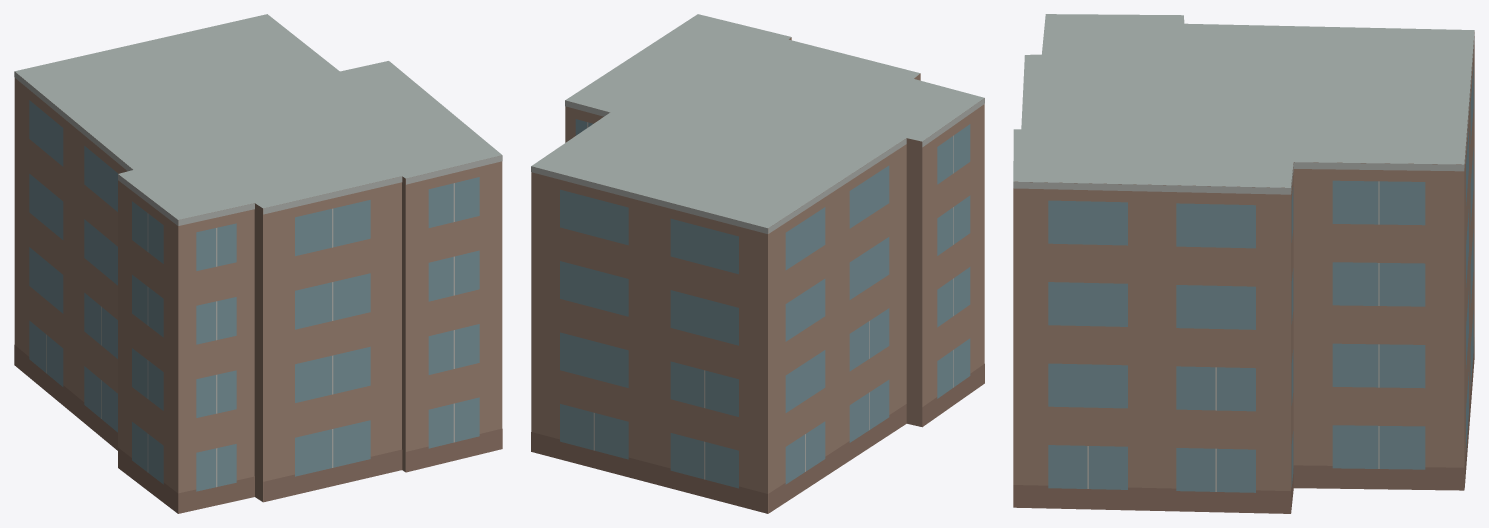
File: survey-upis-32654377.glb
3 renders of one model, left to right at view 1: azimuth 30°, elevation 25°; view 2: azimuth 150°, elevation 25°; view 3: azimuth 270°, elevation 25°, orthographic. The views are drawn at different scales.
Parts seen in each view (by area): view 1: survey-upis-32654377.tmp; view 2: survey-upis-32654377.tmp; view 3: survey-upis-32654377.tmp.
Part boxes in pixels (box(x1,y1,x2,y2)): survey-upis-32654377.tmp: box(14, 14, 502, 513); survey-upis-32654377.tmp: box(531, 14, 984, 513); survey-upis-32654377.tmp: box(1013, 14, 1474, 513).
Size of the model in its own units: 13.4 by 11.7 by 15.02.
